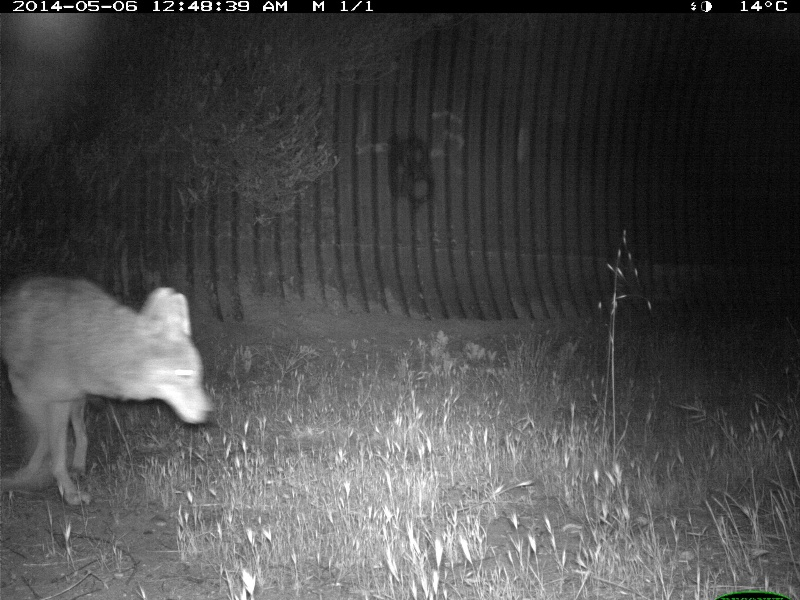coyote: (1, 268, 218, 507)
